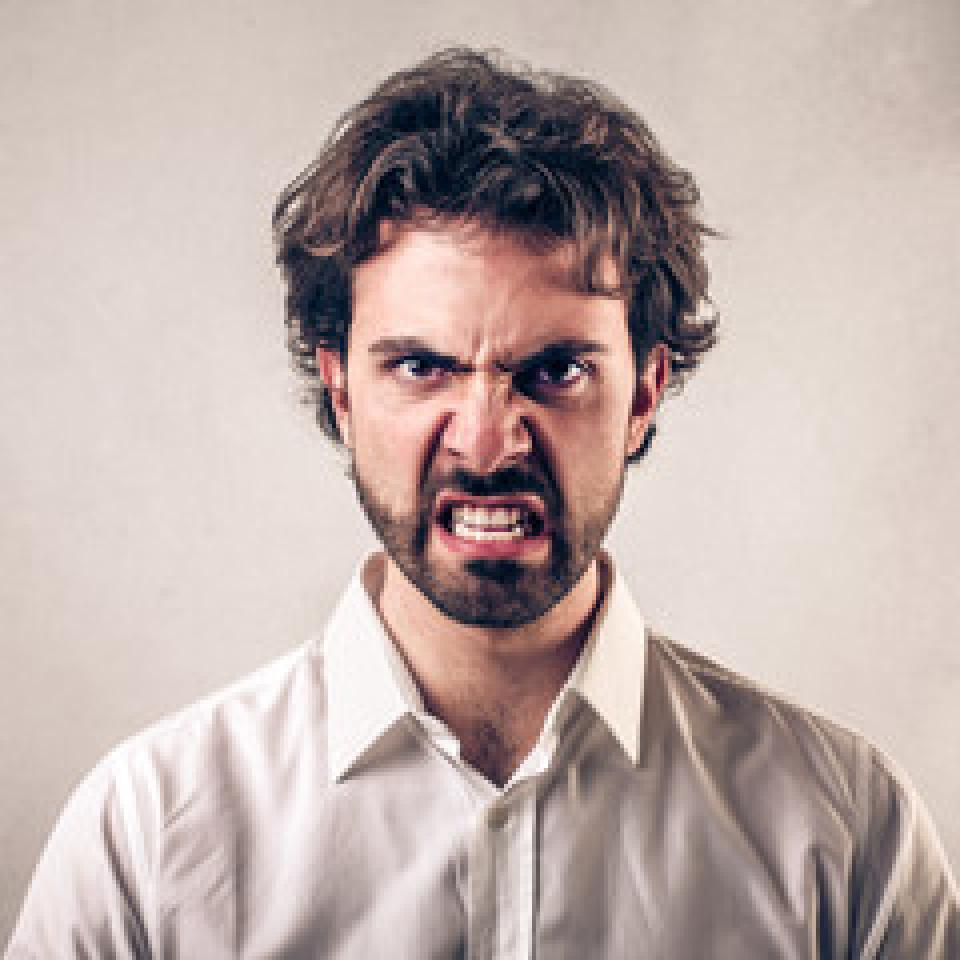Anger: (333, 224, 652, 631)
